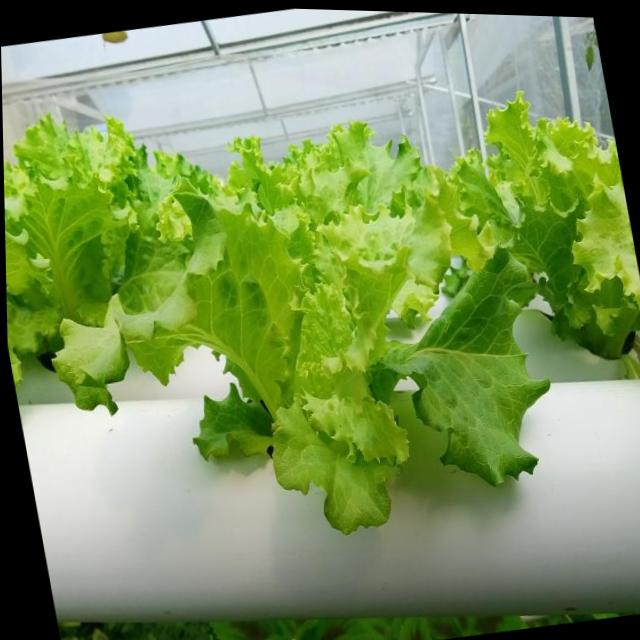Baby: (107, 122, 549, 534)
